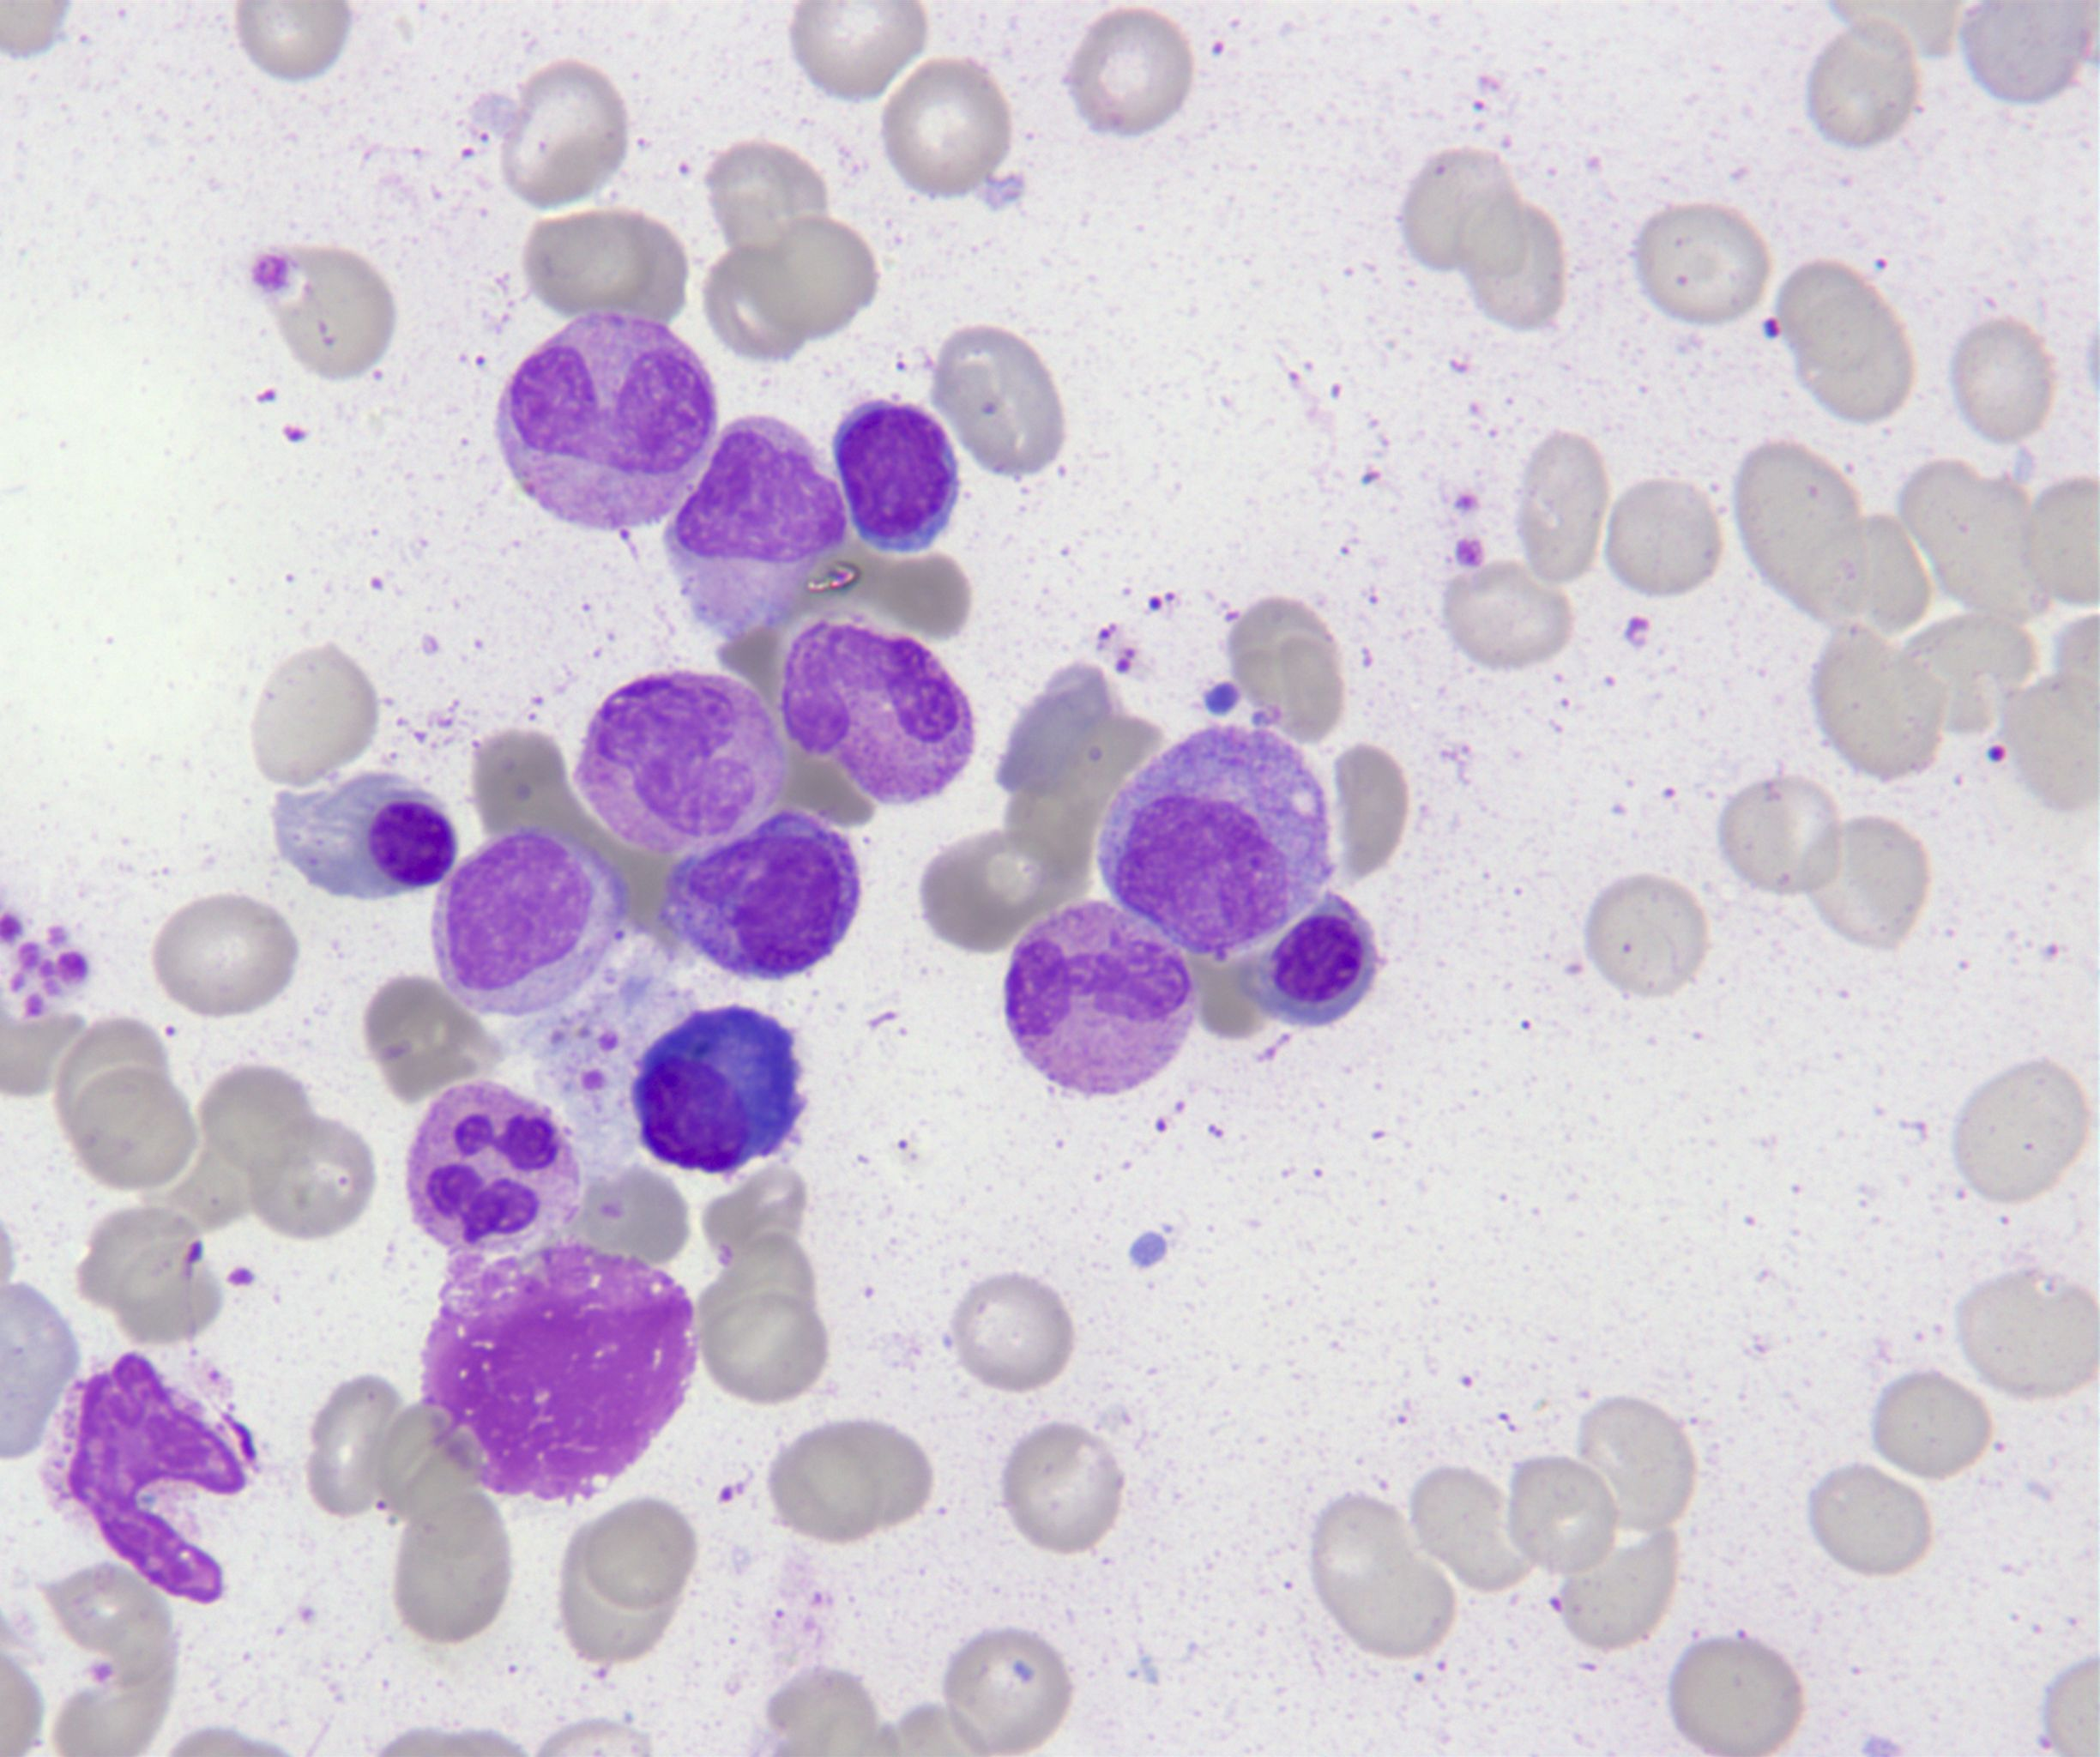24: (274, 773, 459, 899), (1240, 893, 1380, 1029)
3: (1099, 726, 1331, 963), (665, 415, 849, 644), (433, 832, 628, 1015), (665, 813, 860, 981)
32: (834, 401, 959, 555)
4: (497, 311, 717, 530)
5: (574, 668, 785, 851), (787, 619, 973, 806)
52: (631, 1007, 808, 1174)
6: (1005, 902, 1195, 1094), (408, 1082, 579, 1253)
x: (422, 1244, 696, 1501), (40, 1350, 246, 1605)
